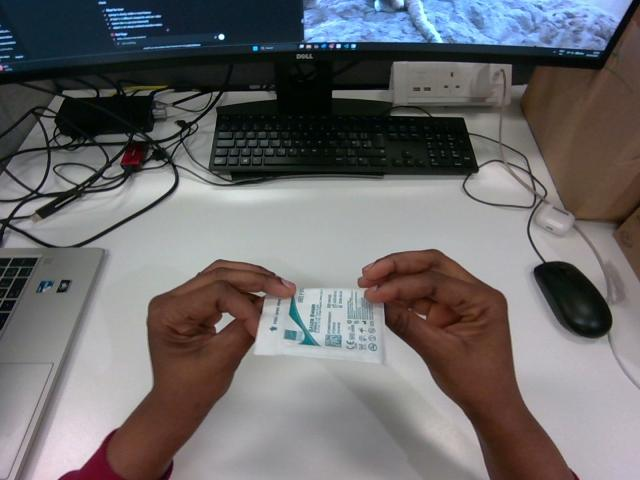gauze: (254, 288, 384, 363)
